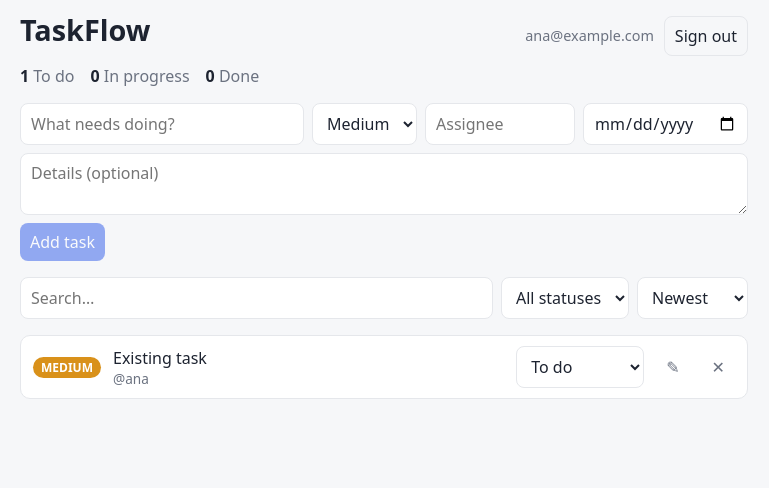
tasks › creates a task with a description and clears the form
Check: the text "Existing task" is shown, box [113, 346, 207, 368]
Step 1. Type "Write README" into the field named "Task title" → (162, 124), box [20, 103, 304, 145]
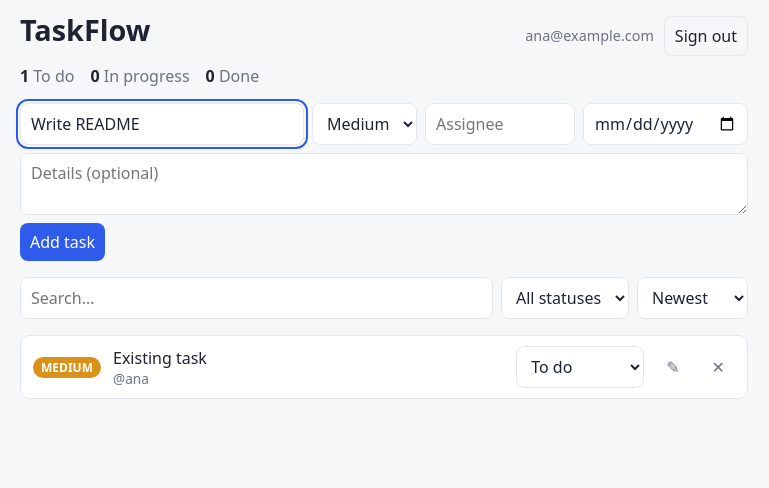
Step 2. Type "Screenshots and a diagram" into the text box named "Description" → (384, 184), box [20, 153, 748, 215]
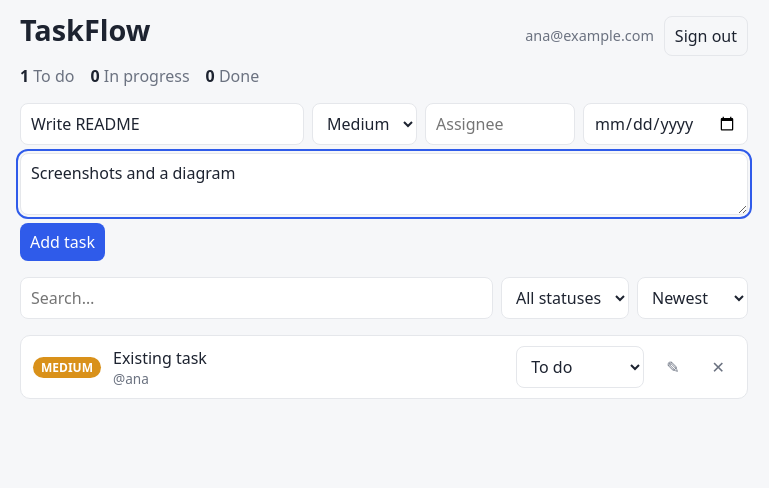
Step 3. Click the button "Add task" → (62, 242), box [20, 223, 105, 261]
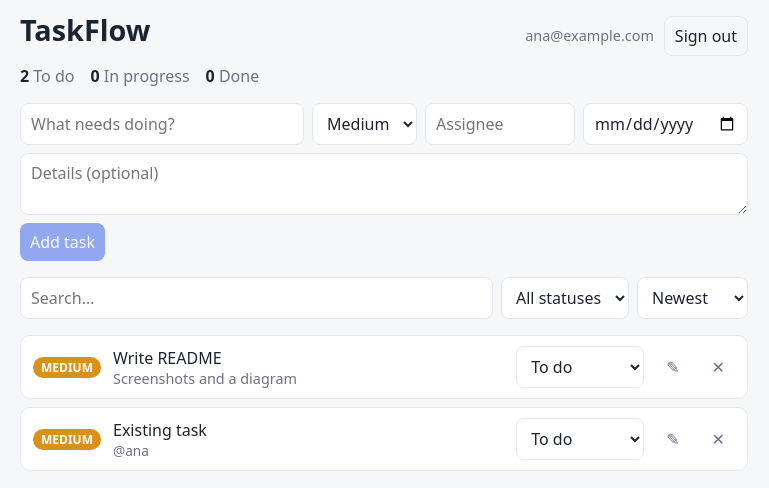
Check: the text "Write README" is shown, box [113, 346, 222, 368]
Check: the text "Screenshots and a diagram" is shown, box [113, 368, 297, 388]
Check: the field named "Task title" is empty, box [20, 103, 304, 145]
